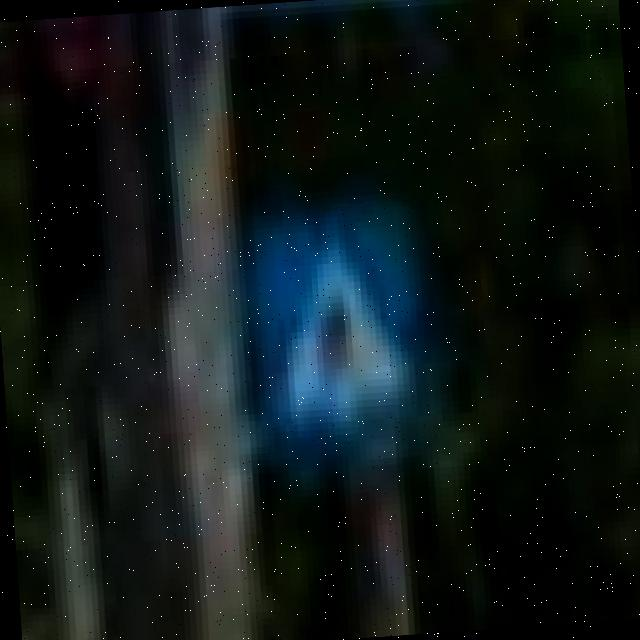Przejscie dla pieszych: (241, 204, 434, 474)
